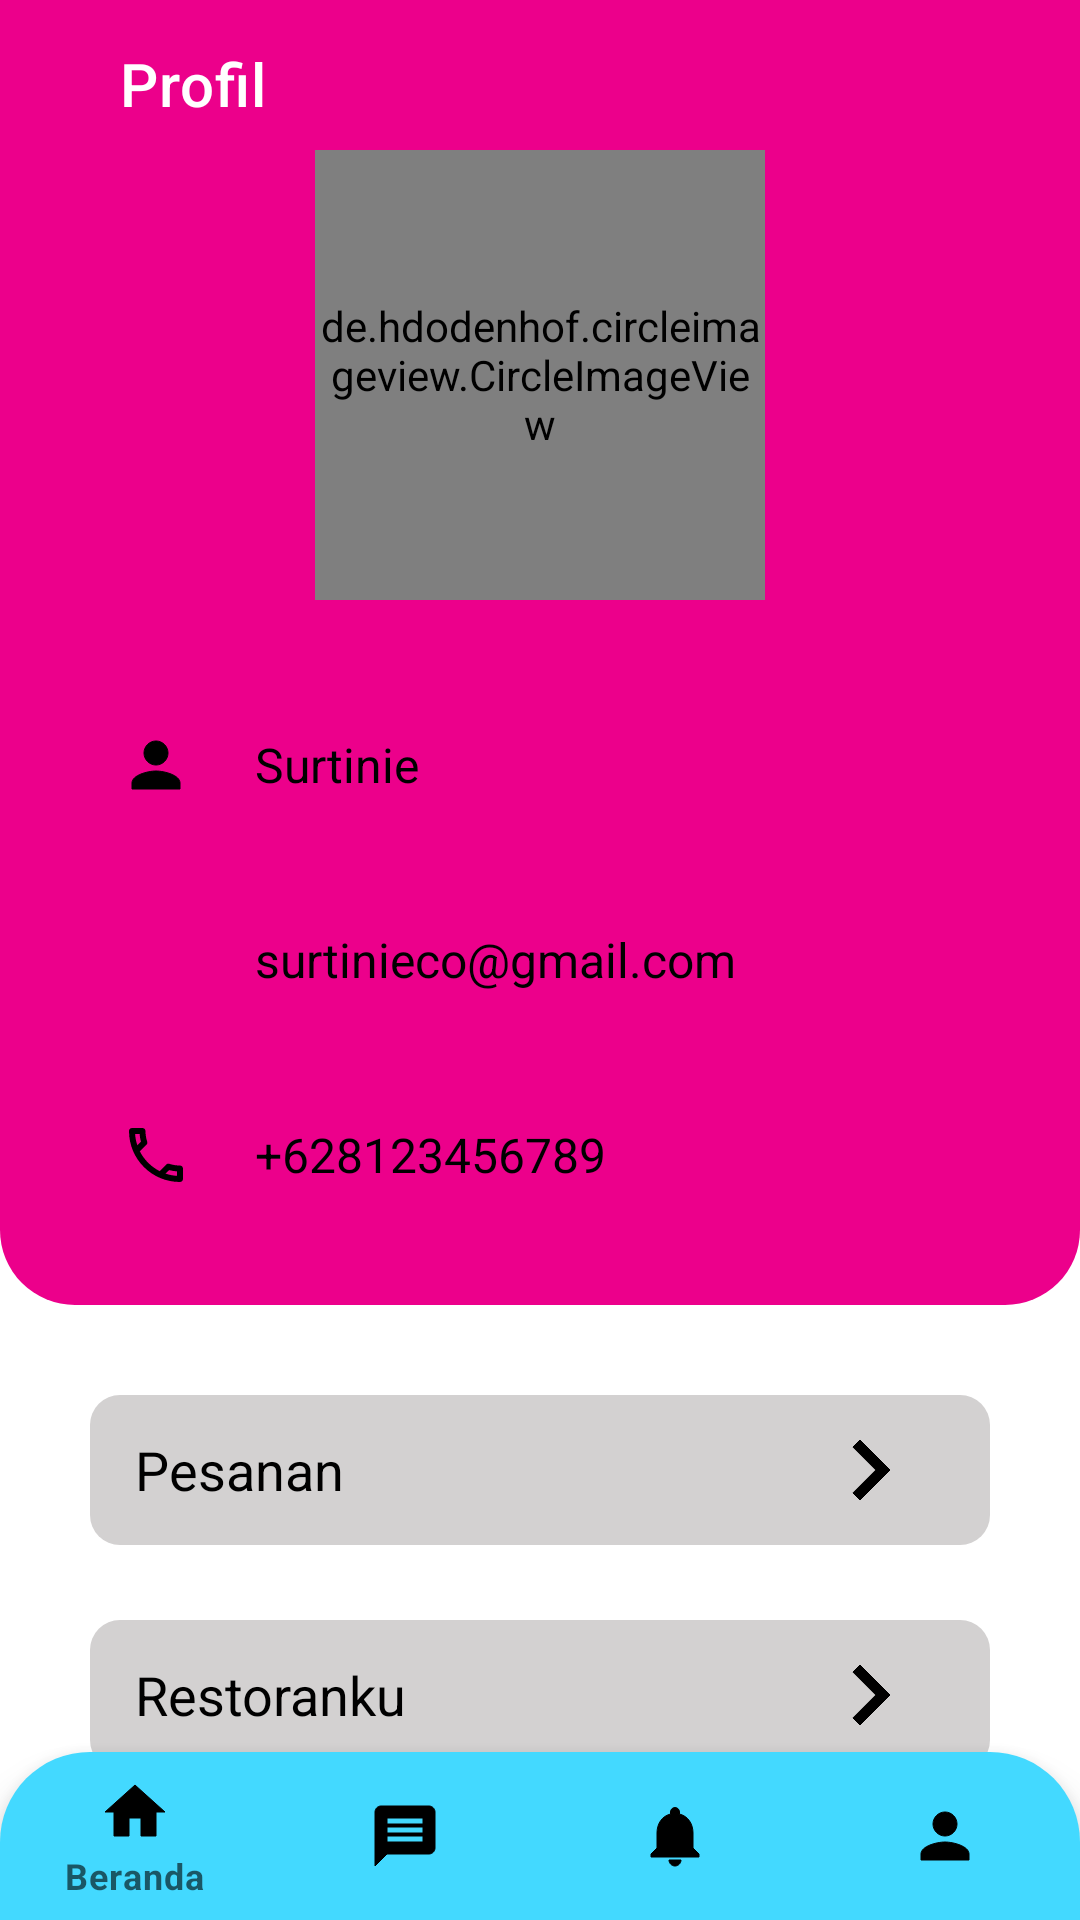

Icons on this 1080x1920 Android screen, each with its box as (x1, y1, x2, y2):
next: (852, 1440, 890, 1500), (852, 1665, 890, 1725)
phone: (129, 1128, 183, 1182)
